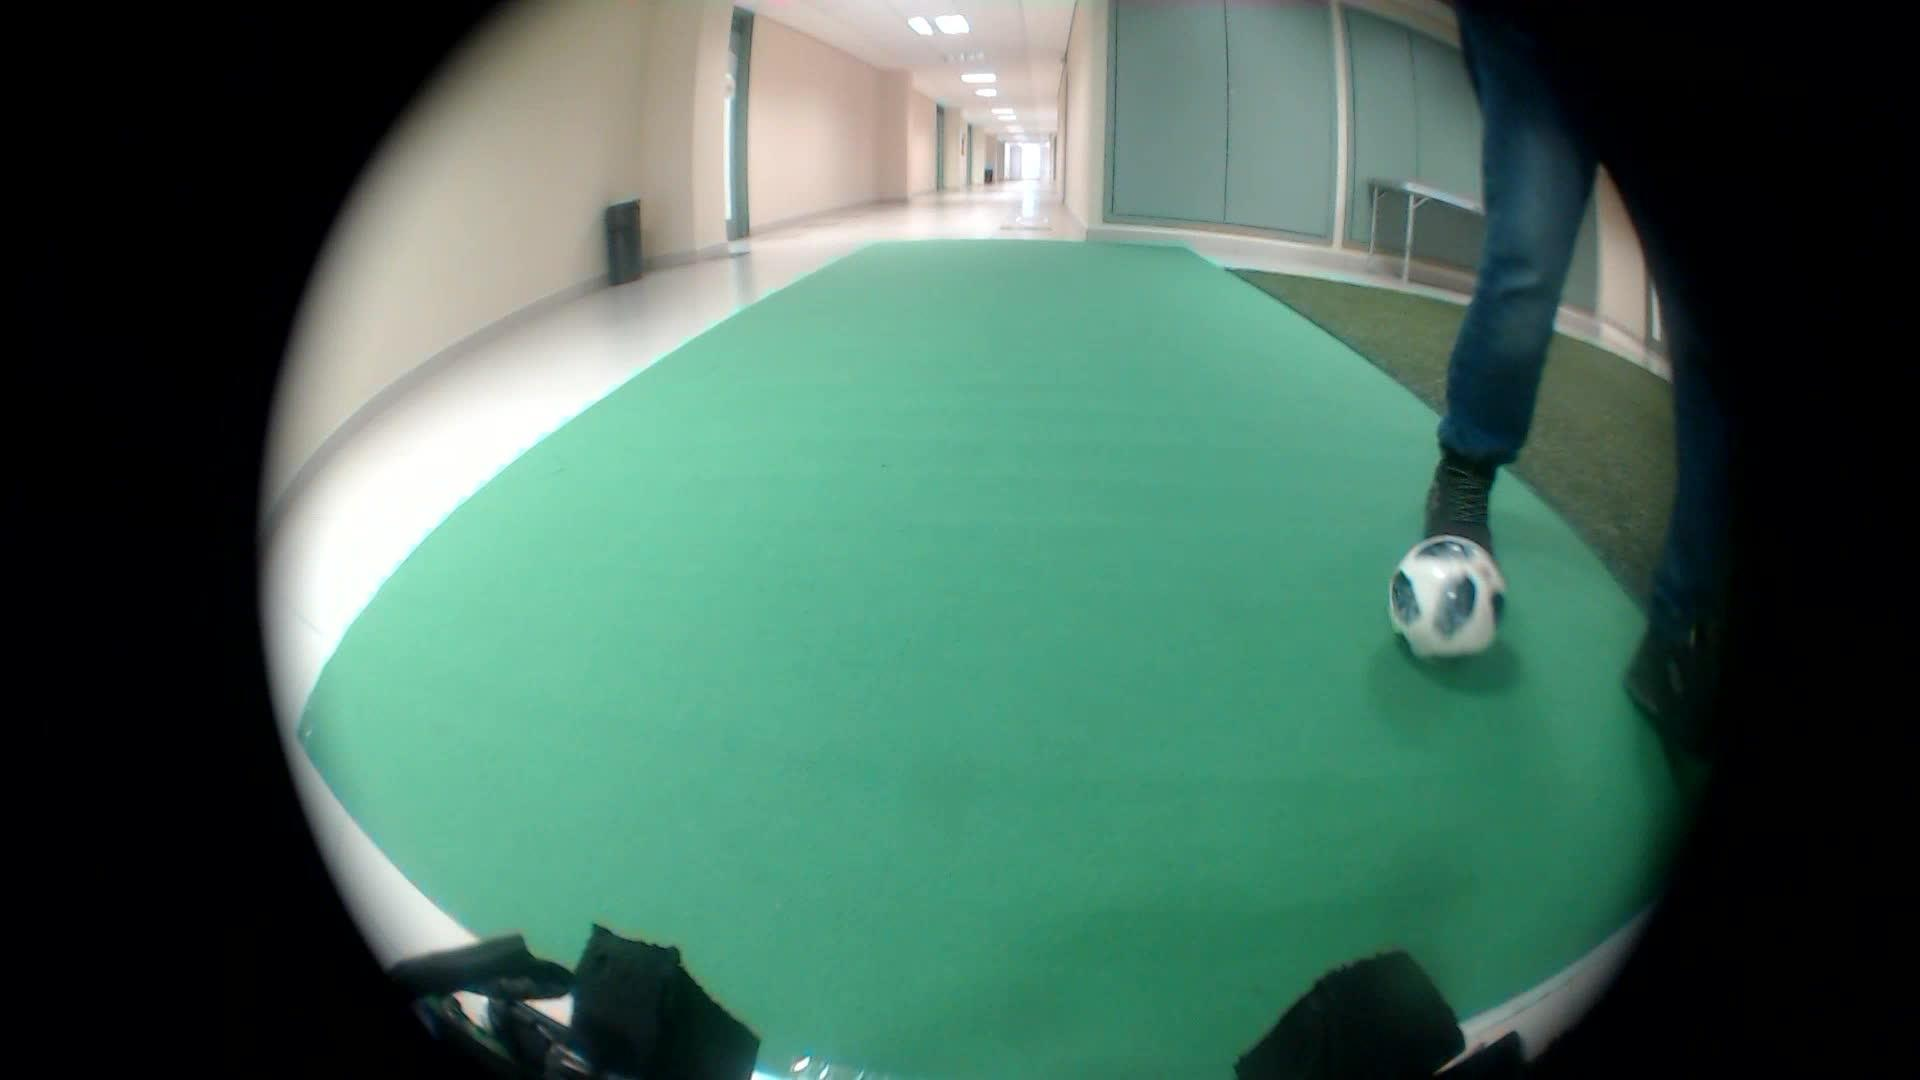ball: (1373, 516, 1527, 680)
